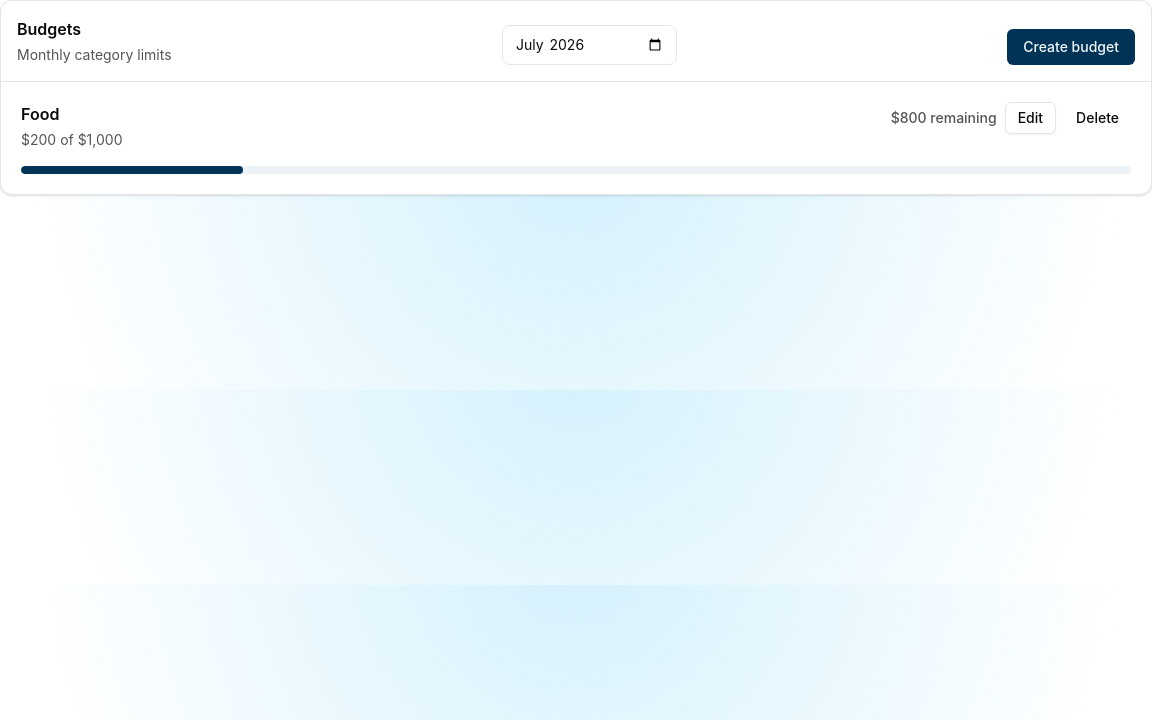
Test: BudgetsView › visibly mutes the category dropdown when editing locks it
Click the button "Edit" at (1030, 118), box [1005,102,1056,134]
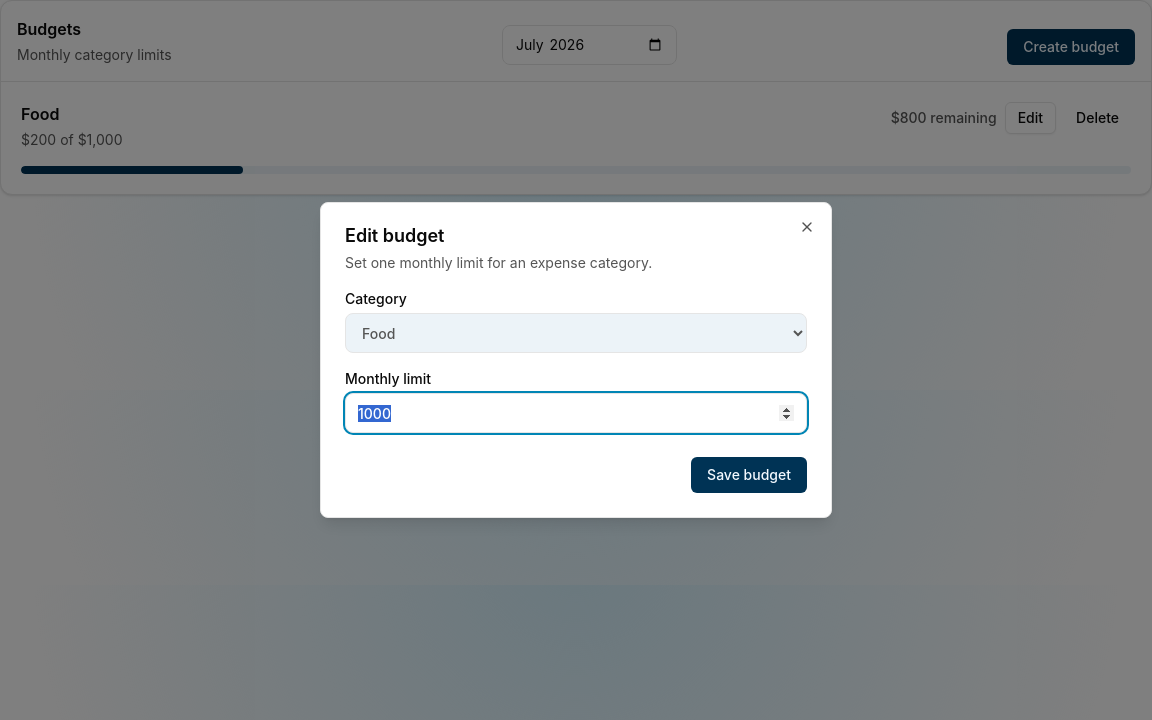
Now the dropdown labelled "Category" is disabled, box [345,313,807,353]
